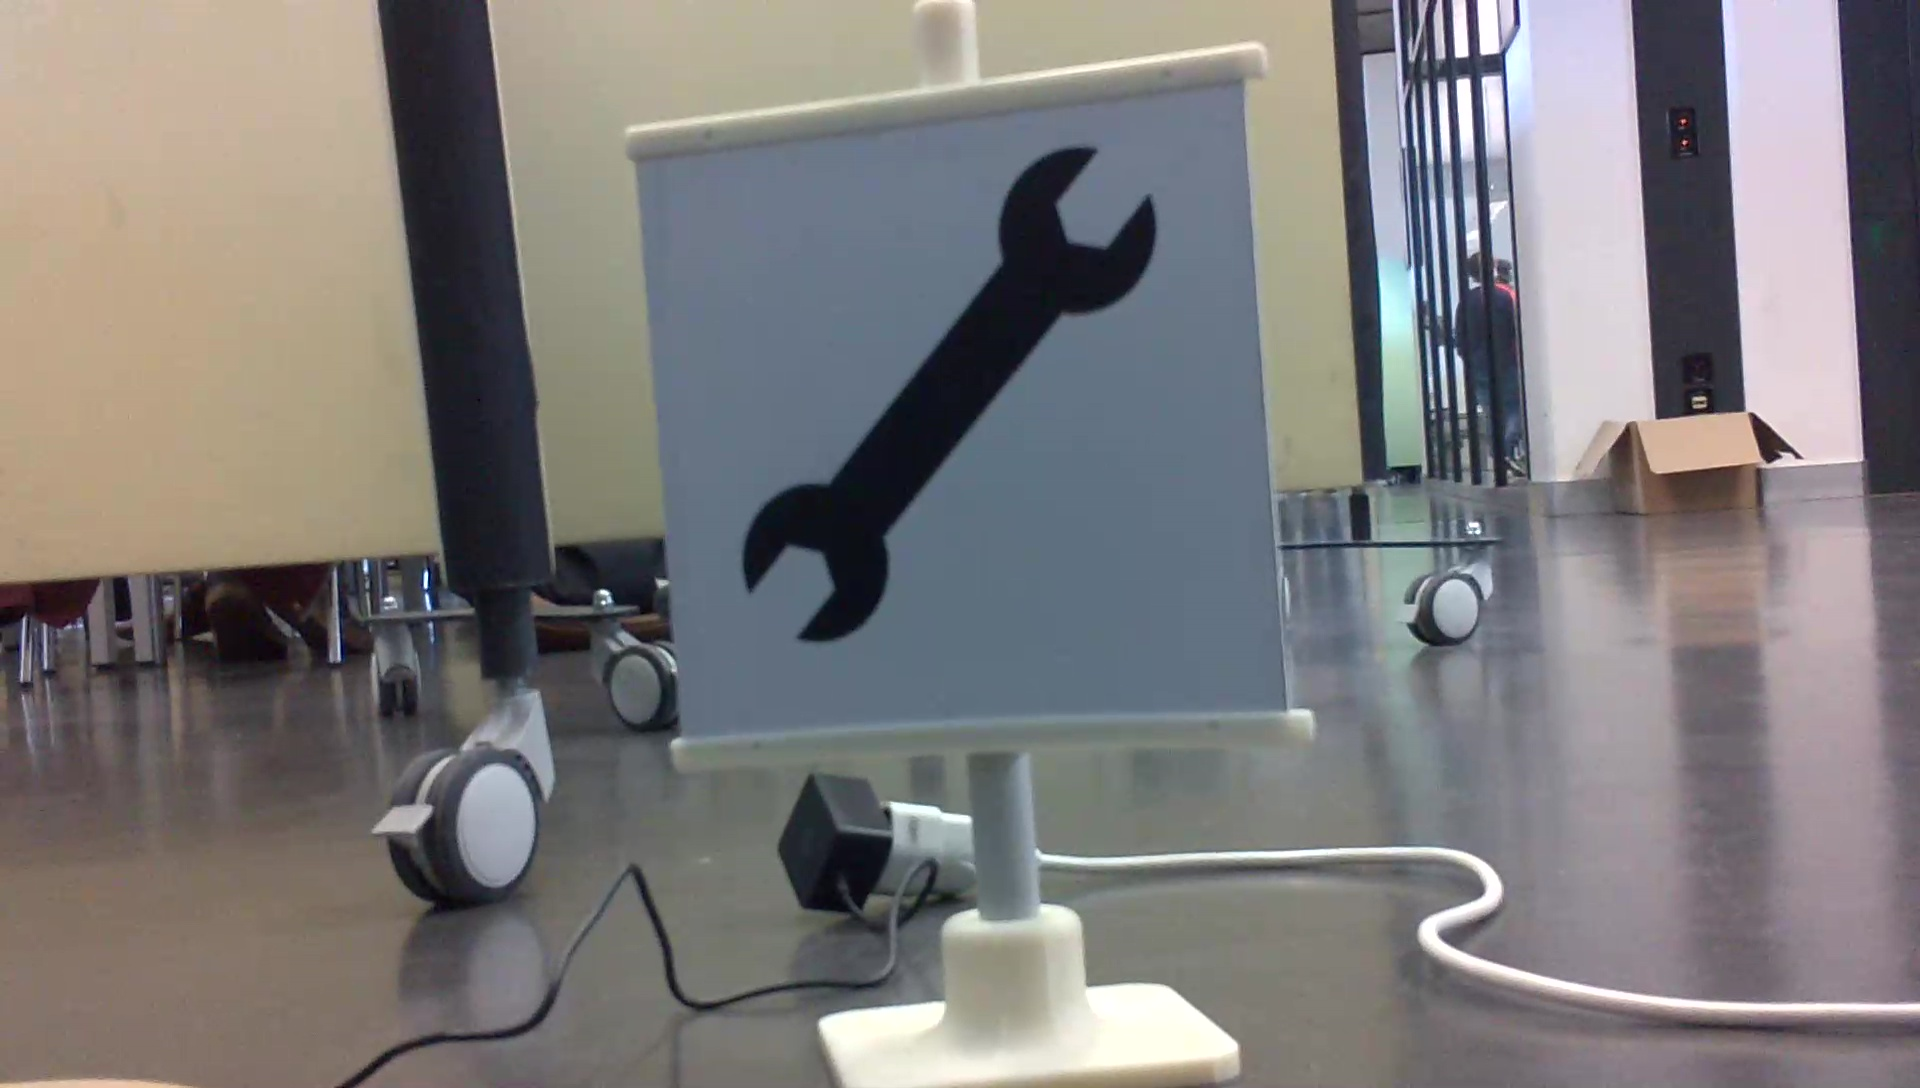wrench: (729, 135, 1170, 651)
